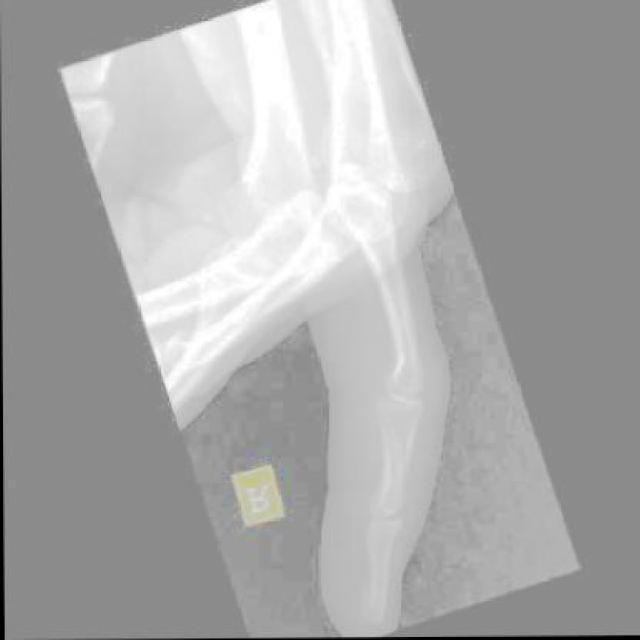Fracture: (345, 392, 440, 519)
